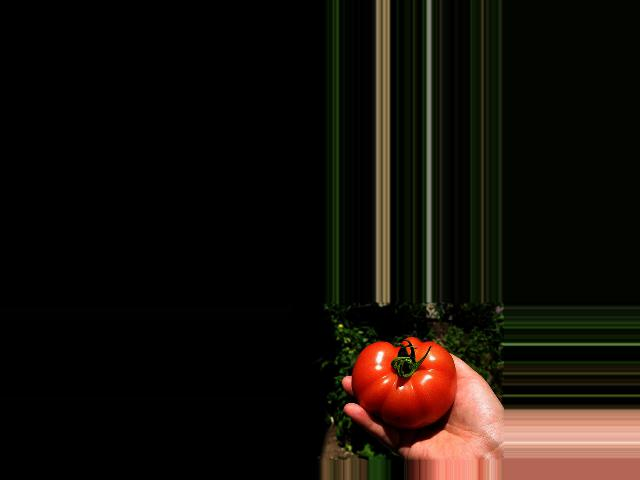tomato: (351, 337, 455, 428)
